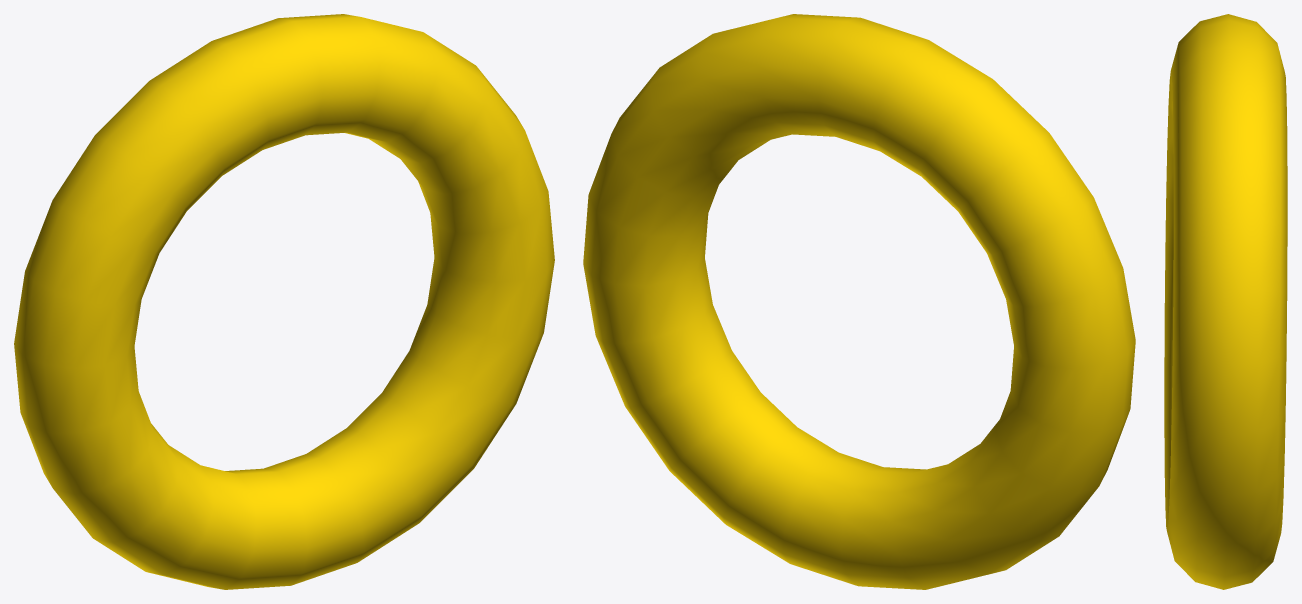
File: ringanimated.DAE
3 renders of one model, left to right at view 1: azimuth 30°, elevation 25°; view 2: azimuth 150°, elevation 25°; view 3: azimuth 270°, elevation 25°, orthographic. The views are drawn at different scales.
Visible parts, largest first — view 1: Torus001; view 2: Torus001; view 3: Torus001.
Part boxes in pixels (bbox=[...]): Torus001: bbox=[14, 14, 554, 589]; Torus001: bbox=[583, 14, 1135, 589]; Torus001: bbox=[1164, 14, 1287, 589].
Bounding box in the file's own units: 79.25 × 16.95 × 79.24.
